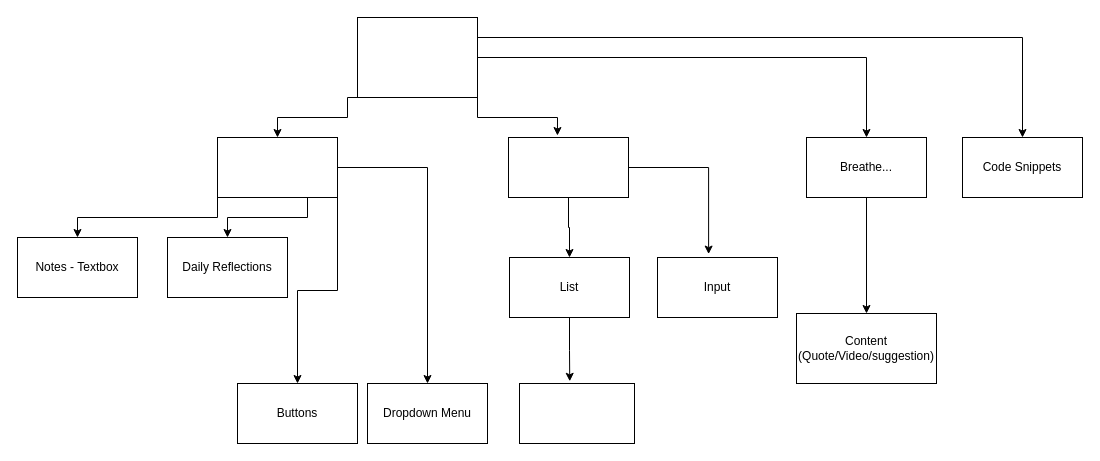
Some shapes in this 1100 by 461 pixel diagram are drawn without their labels. The centre of each missing label's shape, as x and y in pixels:
"App" goes at point (417, 57).
"List Items" goes at point (576, 413).
"Notes" goes at point (277, 167).
"Targets" goes at point (568, 167).
